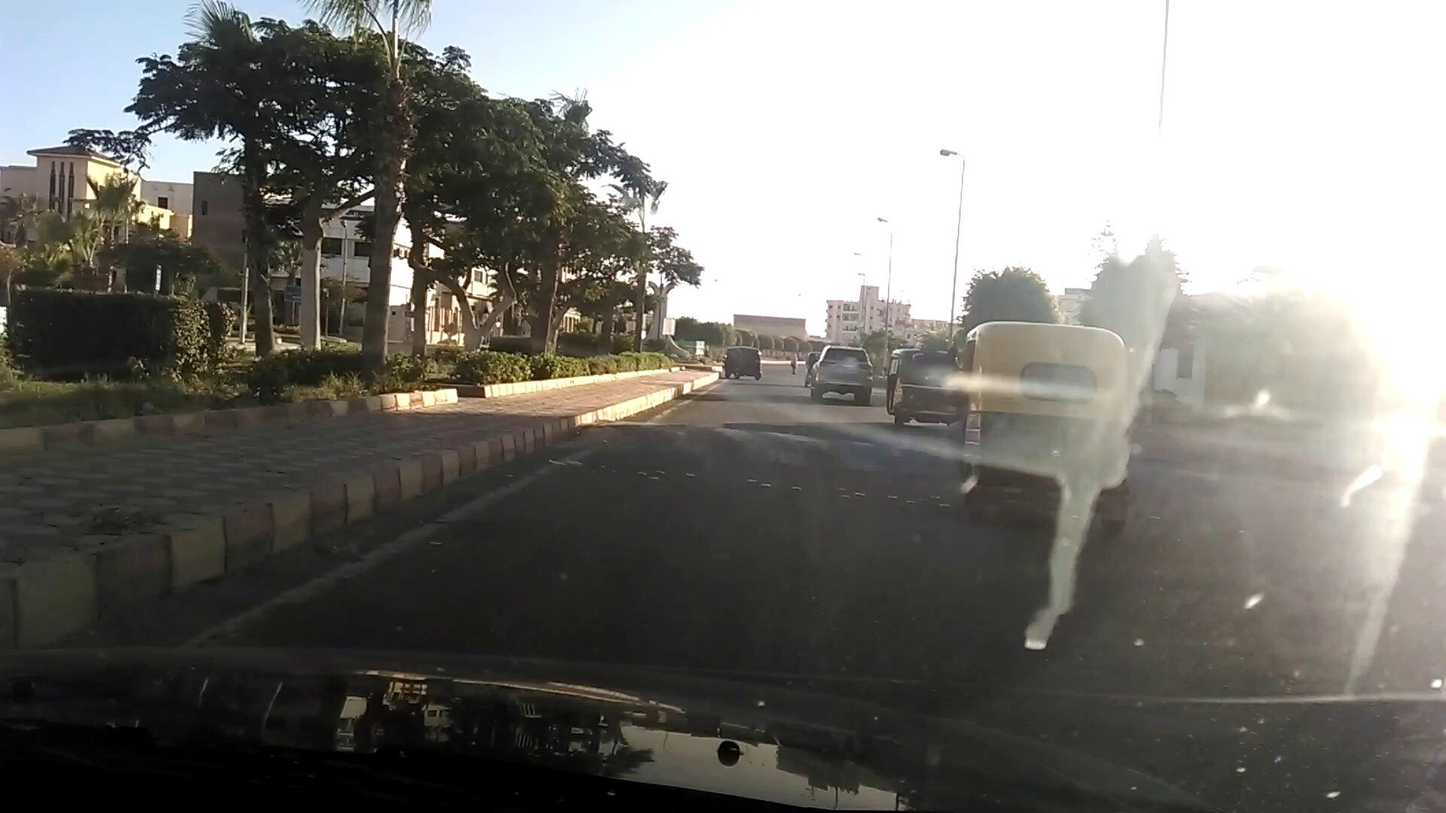Bump: (584, 416, 941, 484)
